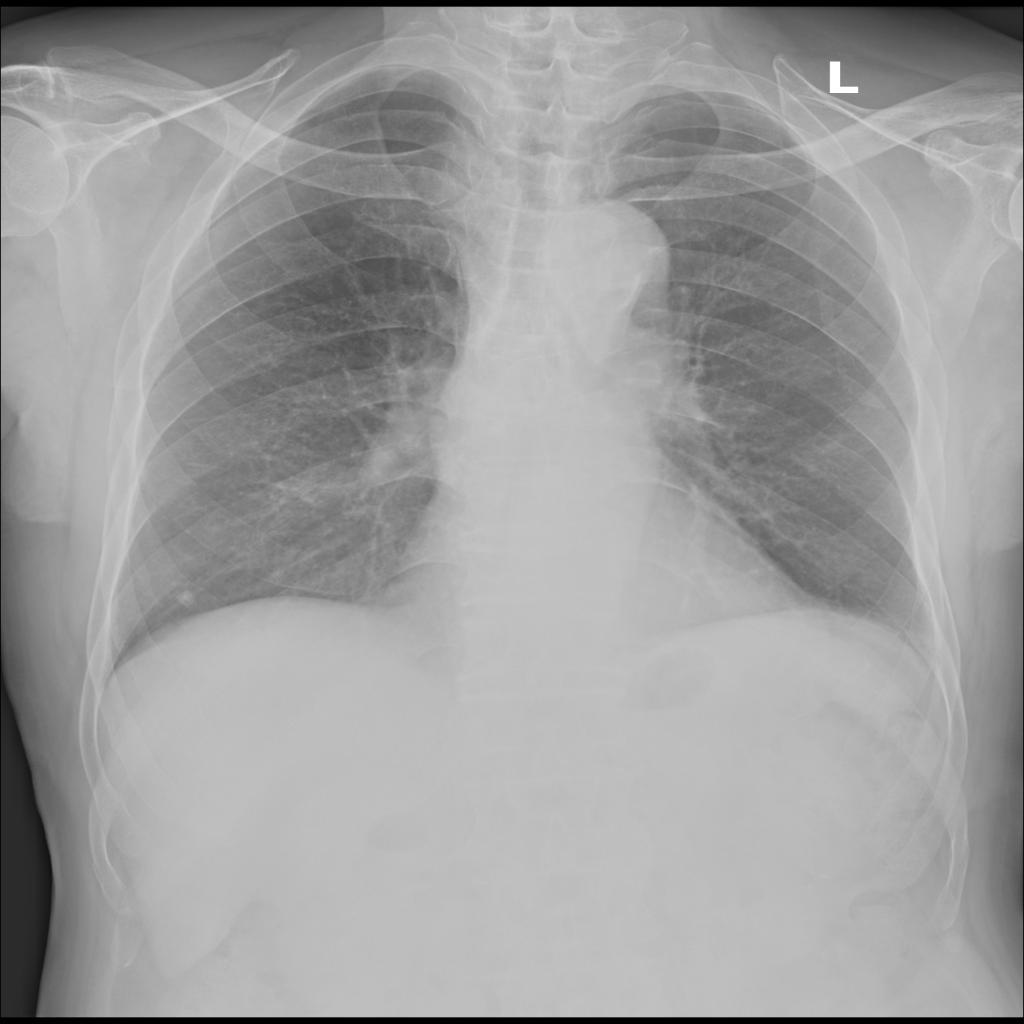Nodule: (170, 589, 201, 607)
